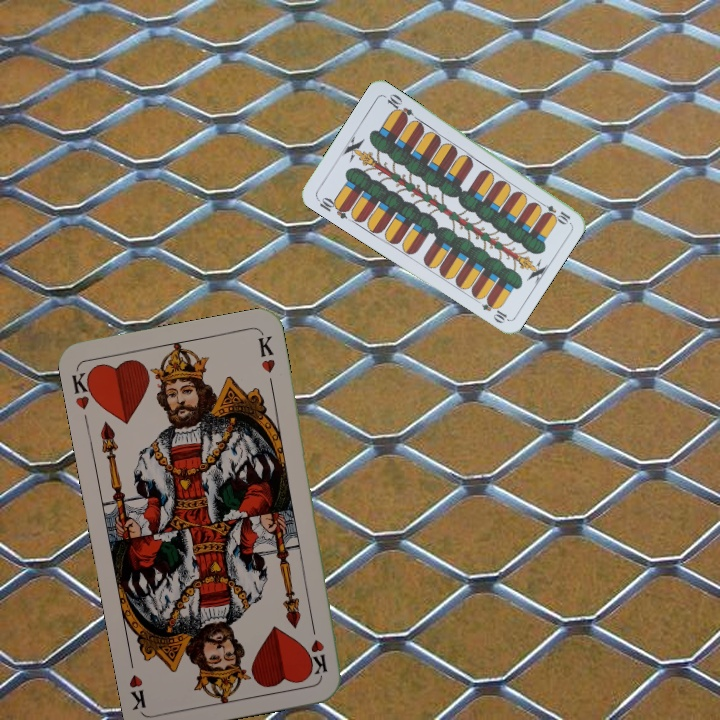E10: (313, 193, 352, 222), (535, 198, 573, 225)
HK: (68, 365, 99, 412), (306, 618, 330, 678)
